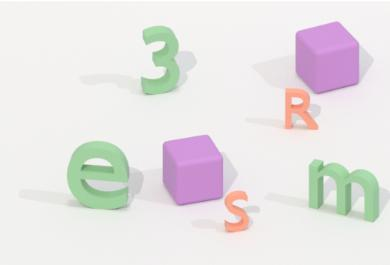0-KhoiVuong: (290, 17, 366, 95), (159, 129, 226, 210)
3: (134, 21, 185, 99)
R: (281, 84, 321, 136)
S: (220, 188, 253, 238)
e: (61, 138, 135, 213)
m: (303, 155, 385, 226)
